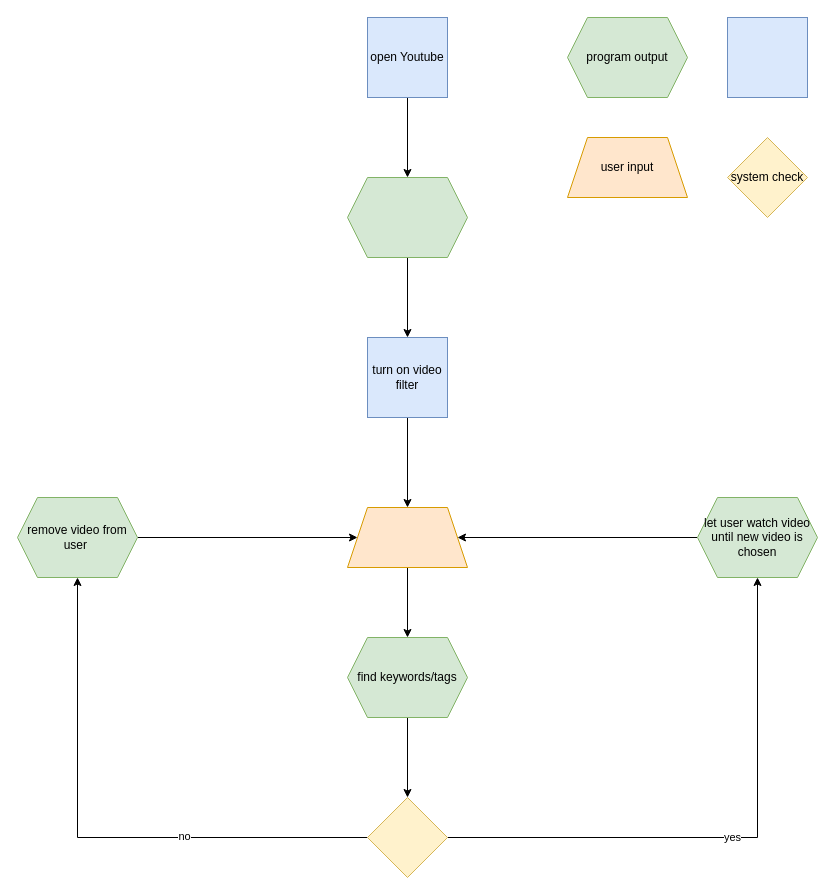
Image size: 835x895. Some labels were removed from this diagram. Each missing label, with the box of its shape:
check if video has education tags: (366, 796, 448, 878)
mandatory action: (726, 16, 808, 98)
select video: (346, 506, 468, 568)
Youtube home screen: (346, 176, 468, 258)
